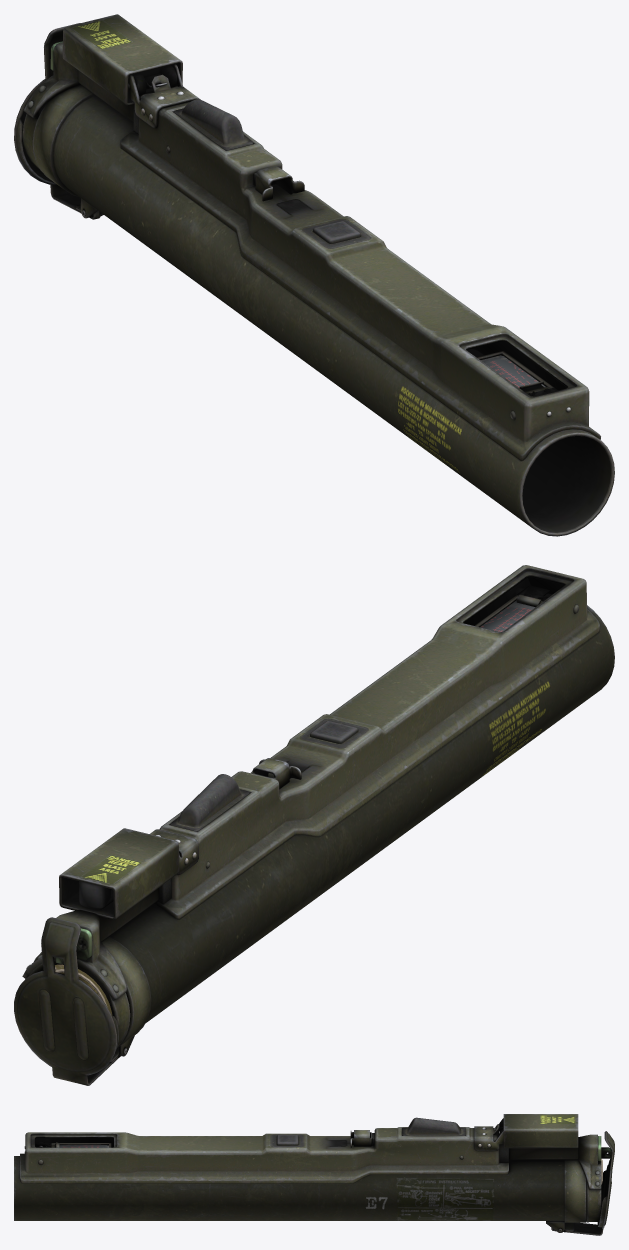
3 views of the same model, one above another, from view 1: azimuth 30°, elevation 25°; view 2: azimuth 150°, elevation 25°; view 3: azimuth 270°, elevation 25° (orthographic). The views are drawn at different scales.
Visible parts, largest first — view 1: Body, OuterTube, Cap, Trigger, Safety, Glass_Glass.001, RearSight; view 2: Body, OuterTube, Cap, Trigger, Safety, FrontSight, RearSight, Glass_Glass.001; view 3: Body, OuterTube, Cap, Trigger, Safety, RearSight.
Boxes of the visible parts, bbox=[...] form: Body: bbox=[32, 64, 614, 536]; OuterTube: bbox=[22, 14, 182, 169]; Cap: bbox=[14, 23, 103, 219]; Trigger: bbox=[174, 99, 253, 150]; Safety: bbox=[255, 166, 304, 201]; Glass_Glass.001: bbox=[481, 355, 545, 387]; RearSight: bbox=[477, 351, 557, 396]; Body: bbox=[101, 565, 614, 1056]; OuterTube: bbox=[22, 828, 179, 1046]; Cap: bbox=[14, 917, 127, 1085]; Trigger: bbox=[170, 774, 249, 831]; Safety: bbox=[252, 758, 301, 788]; FrontSight: bbox=[79, 881, 113, 909]; RearSight: bbox=[474, 585, 552, 627]; Glass_Glass.001: bbox=[480, 600, 535, 631]; Body: bbox=[14, 1118, 586, 1232]; OuterTube: bbox=[503, 1114, 612, 1222]; Cap: bbox=[551, 1131, 614, 1235]; Trigger: bbox=[402, 1117, 465, 1135]; Safety: bbox=[350, 1130, 372, 1147]; RearSight: bbox=[35, 1142, 111, 1147].
Size of the model in its own units: 0.0145 by 0.0263 by 0.1256.
Materials: 2 (2 with a texture image).
